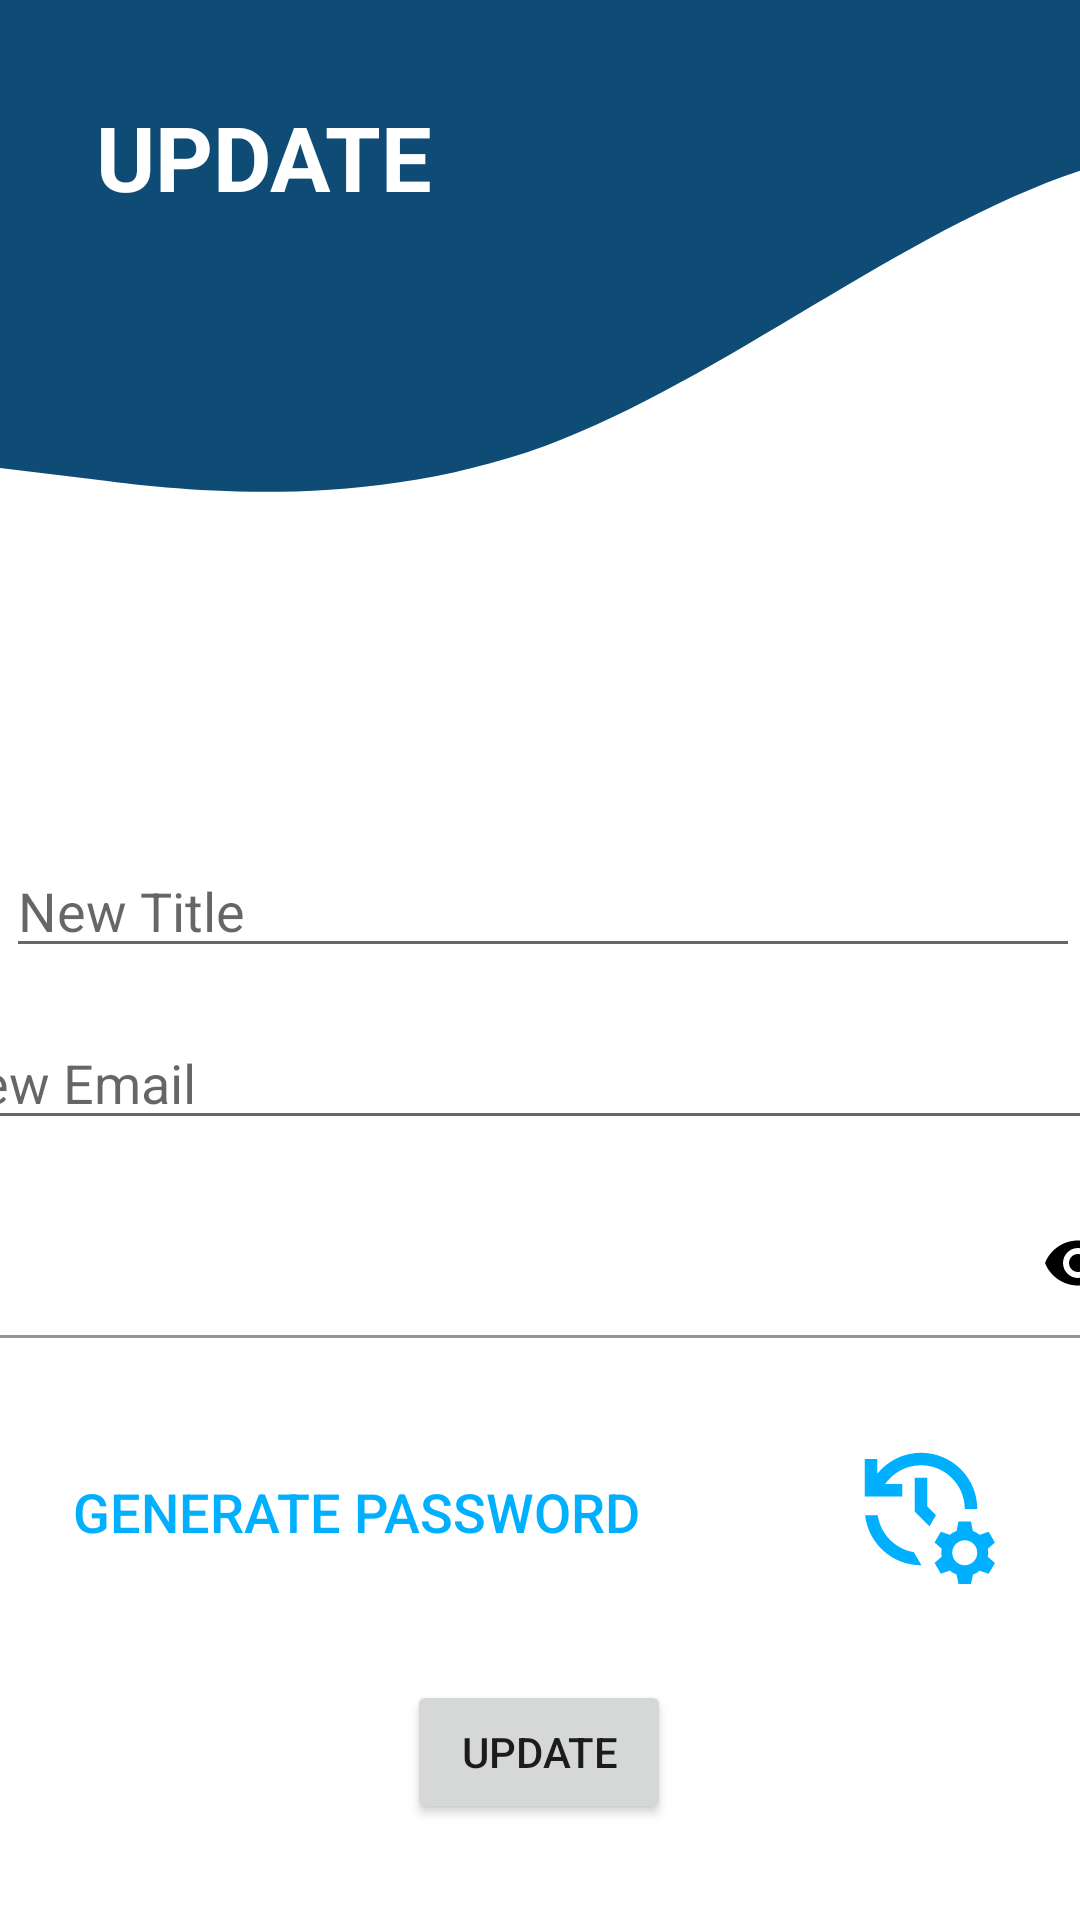

Screen size 1080×1920. Icon name, then its box in pixels as (x1, y1, x2, y2):
history: (864, 1452, 995, 1584)
